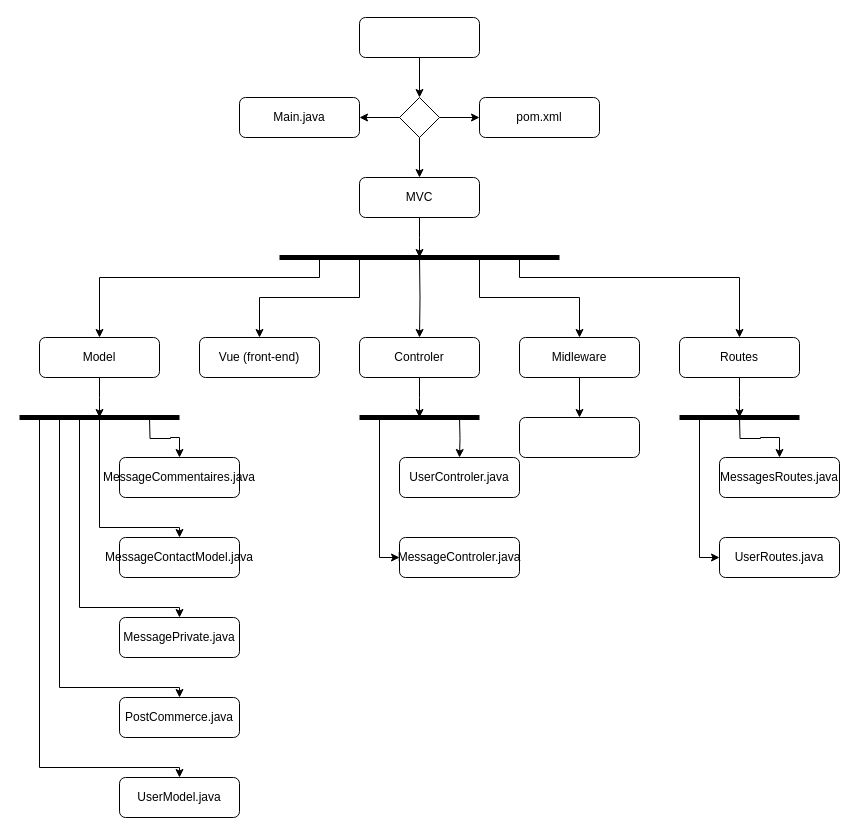
Some shapes in this 857 by 835 pixel diagram are drawn without their labels. The shapes that lost their labels are listed below. From the top down, each one's centre as x and y in pixels, then its label:
At (419,37): "webservices".
At (579,437): "Auth.java".
